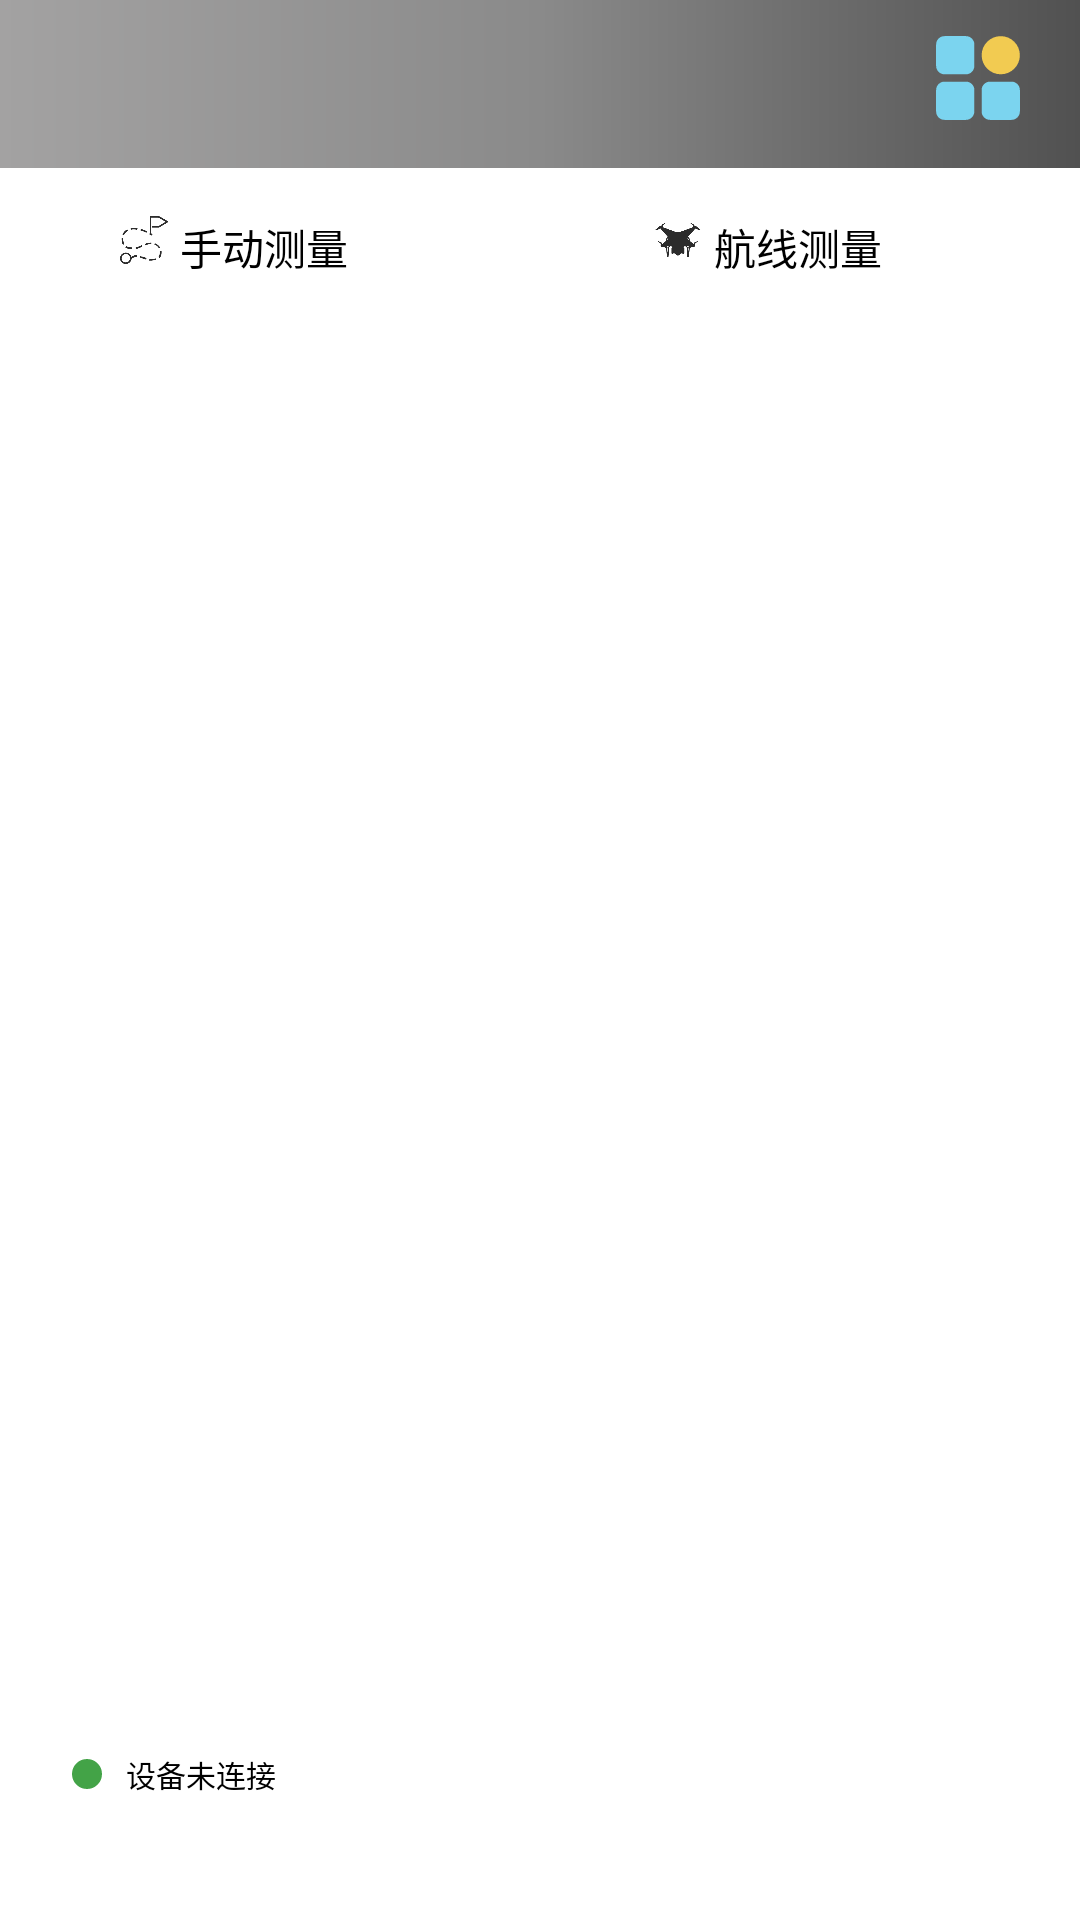

Icons on this 1080x1920 Android screen, each with the point to tap as point (x, y):
more: point (978, 78)
